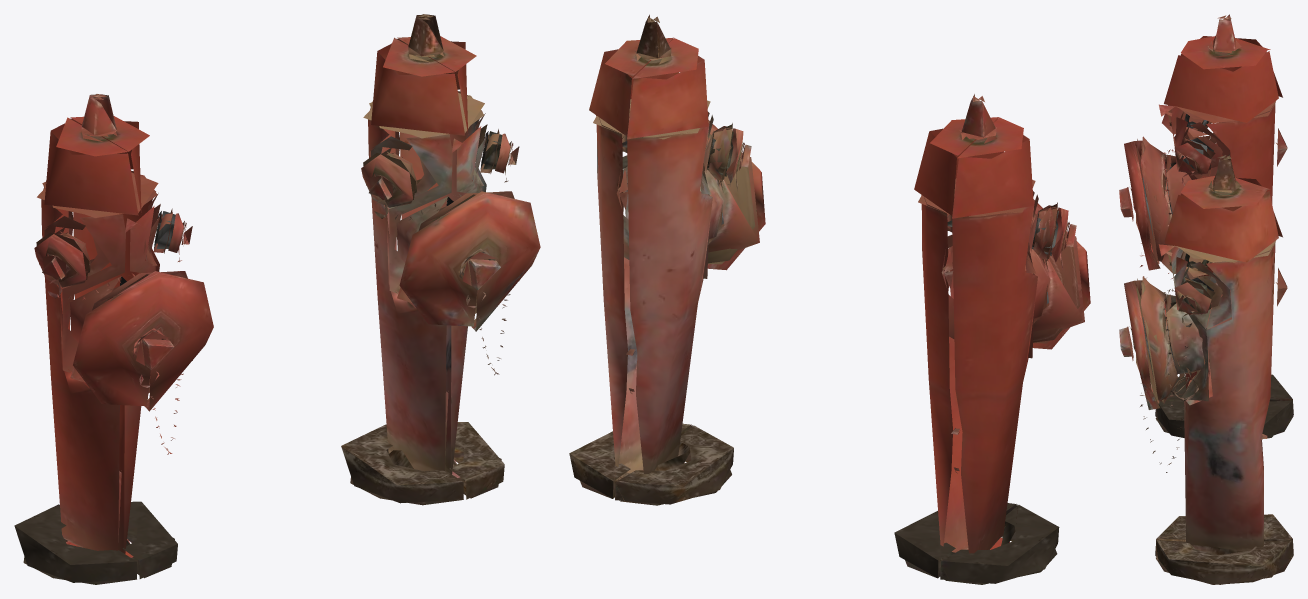
Rendered from fire_hydrant.glb.
The picture shows the model from 3 angles, left to right: view 1: azimuth 30°, elevation 25°; view 2: azimuth 150°, elevation 25°; view 3: azimuth 270°, elevation 25°; orthographic projection. The views are drawn at different scales.
Parts seen in each view (by area): view 1: fire_hydrant_aged, fire_hydrant, fire_hydrant_cap_01, fire_hydrant_cap_01_aged, fire_hydrant_cap_03_aged, fire_hydrant_cap_03; view 2: fire_hydrant_aged, fire_hydrant, fire_hydrant_cap_01, fire_hydrant_cap_01_aged, fire_hydrant_cap_03, fire_hydrant_cap_03_aged; view 3: fire_hydrant_aged, fire_hydrant, fire_hydrant_cap_01_aged, fire_hydrant_cap_01, fire_hydrant_cap_02_aged, fire_hydrant_cap_02, fire_hydrant_chain_aged.
Part boxes in pixels (box(x1,y1,x2,y2)): fire_hydrant_aged: box(341, 14, 519, 505); fire_hydrant: box(14, 94, 192, 584); fire_hydrant_cap_01: box(73, 271, 213, 411); fire_hydrant_cap_01_aged: box(399, 191, 540, 331); fire_hydrant_cap_03_aged: box(361, 153, 415, 207); fire_hydrant_cap_03: box(34, 232, 89, 287); fire_hydrant_aged: box(569, 14, 759, 505); fire_hydrant: box(894, 94, 1084, 584); fire_hydrant_cap_01: box(1032, 199, 1090, 349); fire_hydrant_cap_01_aged: box(707, 120, 765, 270); fire_hydrant_cap_03: box(1045, 202, 1076, 262); fire_hydrant_cap_03_aged: box(720, 123, 751, 182); fire_hydrant_aged: box(1141, 154, 1293, 584); fire_hydrant: box(1141, 14, 1293, 438); fire_hydrant_cap_01_aged: box(1119, 278, 1160, 409); fire_hydrant_cap_01: box(1119, 139, 1160, 270); fire_hydrant_cap_02_aged: box(1174, 280, 1211, 314); fire_hydrant_cap_02: box(1174, 140, 1211, 175); fire_hydrant_chain_aged: box(1131, 289, 1198, 472).
Bounding box in the file's own units: 0.8728 × 0.8007 × 0.3173.
Materials: 2 (2 with a texture image).
